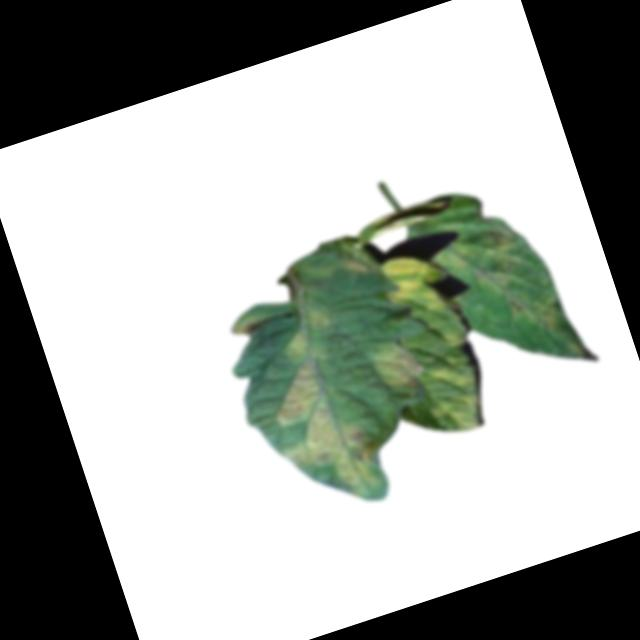Leaf_Mold: (434, 202, 600, 393), (255, 343, 393, 514), (416, 349, 492, 440), (376, 243, 457, 327), (274, 299, 341, 359), (364, 335, 425, 396), (227, 312, 264, 348)
